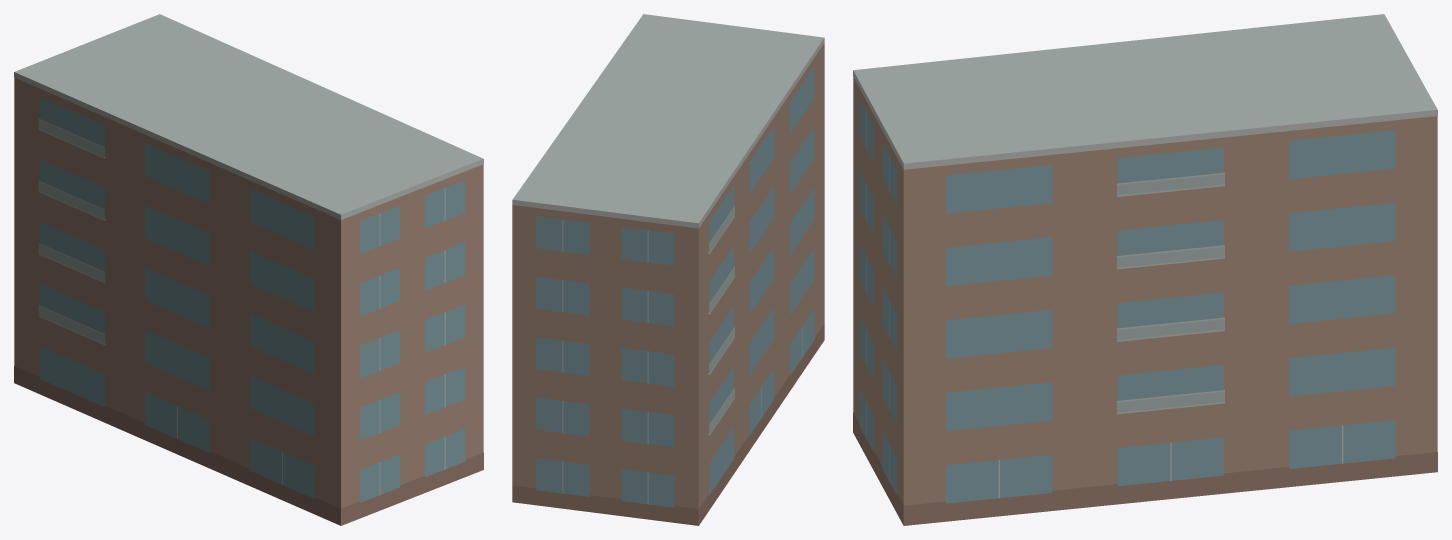
File: survey-upis-32904546.glb
3 renders of one model, left to right at view 1: azimuth 30°, elevation 25°; view 2: azimuth 150°, elevation 25°; view 3: azimuth 270°, elevation 25°, orthographic. The views are drawn at different scales.
Parts seen in each view (by area): view 1: survey-upis-32904546.tmp; view 2: survey-upis-32904546.tmp; view 3: survey-upis-32904546.tmp.
Part boxes in pixels (left/top/right/bottom): survey-upis-32904546.tmp: left=14, top=14, right=483, bottom=525; survey-upis-32904546.tmp: left=512, top=14, right=824, bottom=525; survey-upis-32904546.tmp: left=853, top=14, right=1437, bottom=525.
Size of the model in its own units: 12.68 by 14.31 by 20.94.
